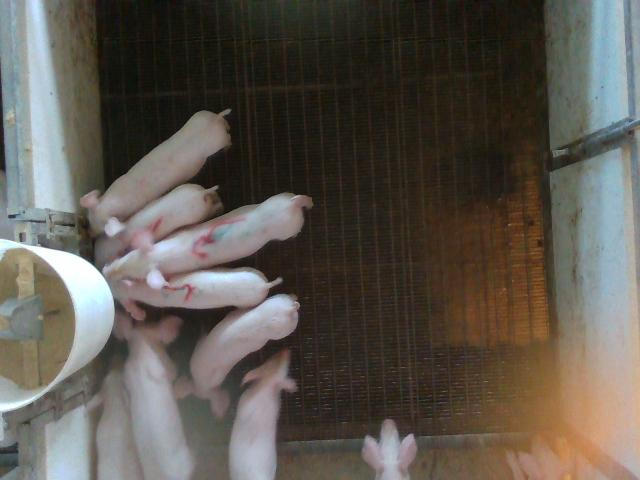pig-1: (95, 184, 224, 269)
pig-3: (102, 192, 312, 288)
pig-5: (110, 268, 282, 321)
